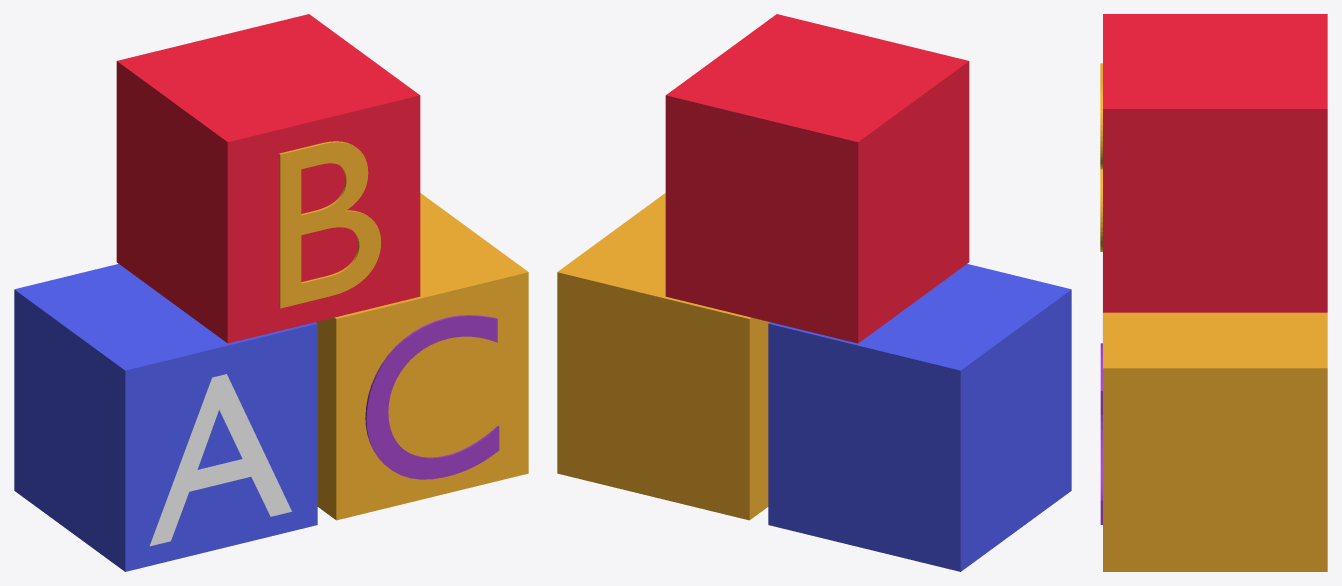
File: toy-ABC.fbx
3 renders of one model, left to right at view 1: azimuth 30°, elevation 25°; view 2: azimuth 150°, elevation 25°; view 3: azimuth 270°, elevation 25°, orthographic.
Visible parts, largest first — view 1: Cube.002, Cube, Cube.001, Text.001, Text, Text.002; view 2: Cube.002, Cube, Cube.001; view 3: Cube.002, Cube.001, Text.001, Text.002.
Boxes of the visible parts, left/top/right/bottom form: Cube.002: left=116, top=14, right=420, bottom=343; Cube: left=14, top=264, right=317, bottom=571; Cube.001: left=316, top=193, right=528, bottom=520; Text.001: left=279, top=141, right=381, bottom=308; Text: left=149, top=374, right=291, bottom=546; Text.002: left=365, top=315, right=499, bottom=479; Cube.002: left=665, top=14, right=969, bottom=343; Cube: left=768, top=264, right=1071, bottom=571; Cube.001: left=557, top=193, right=769, bottom=520; Cube.002: left=1103, top=14, right=1327, bottom=312; Cube.001: left=1103, top=312, right=1327, bottom=571; Text.001: left=1100, top=63, right=1102, bottom=251; Text.002: left=1100, top=343, right=1102, bottom=524.
Bounding box in the file's own units: 101 × 96.94 × 48.83.
